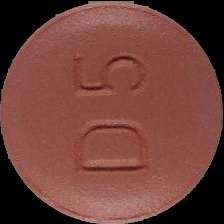0597-0140: (0, 0, 224, 224)
